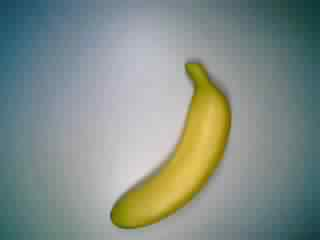banana: (108, 60, 235, 230)
